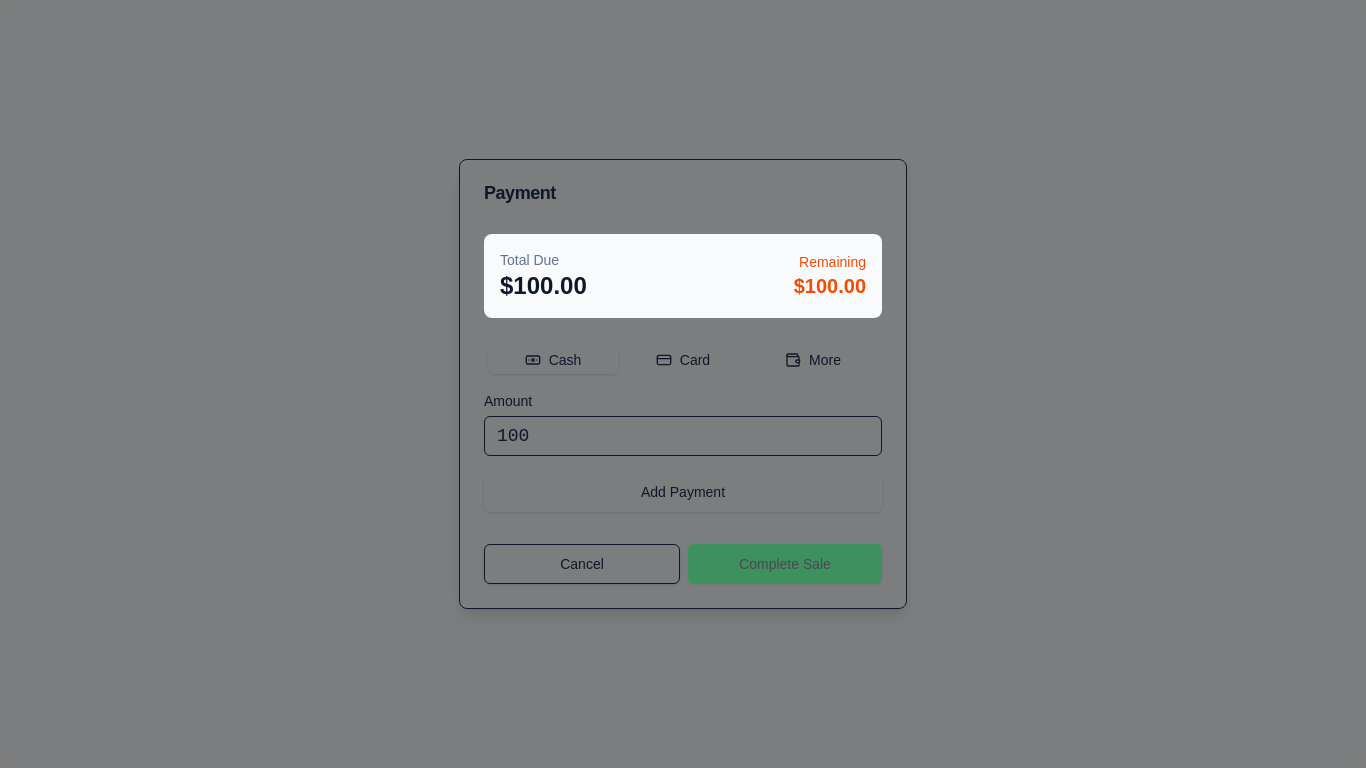
Test case: PaymentModal › adds cash payment and enables Complete Sale
The image size is (1366, 768).
// Click "Add Payment" — the amount field is pre-filled with totalAmount
Click the button "Add Payment". click: click(683, 492)
box: [484, 472, 882, 512]
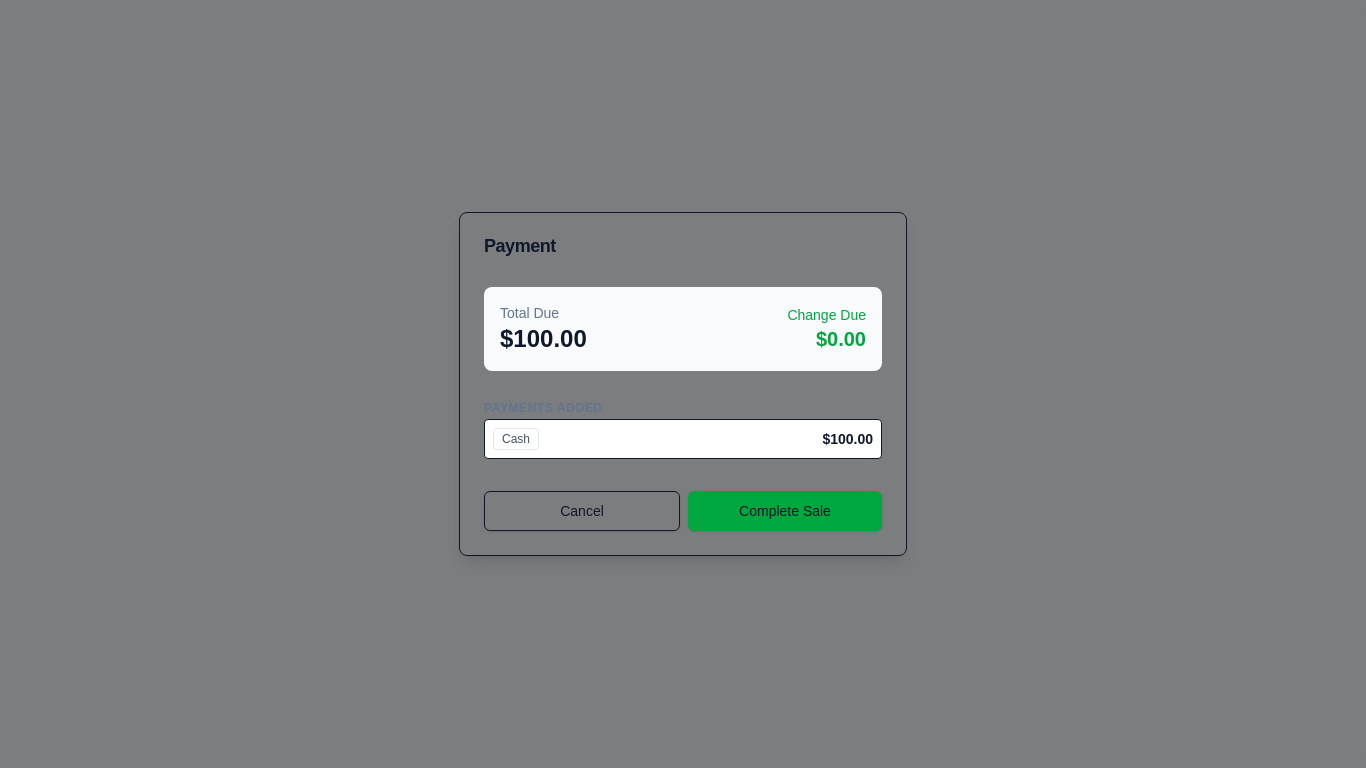
Expected: the button "Complete Sale" is enabled, [688, 491, 882, 531]
